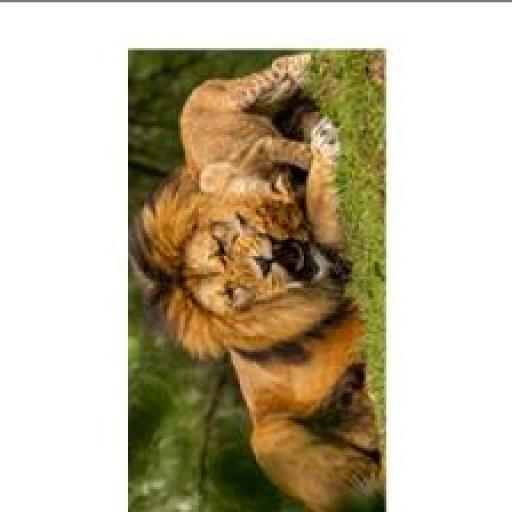lion: (130, 34, 429, 511)
